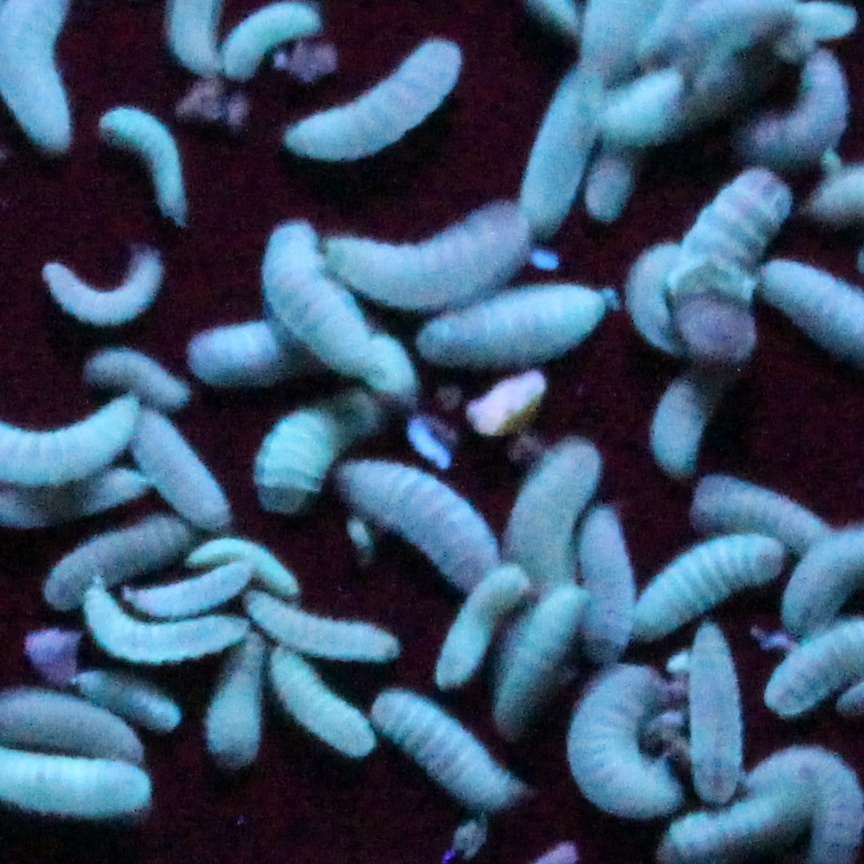larve: (265, 225, 414, 410), (322, 198, 533, 317), (281, 37, 465, 161), (363, 684, 522, 815), (324, 463, 494, 584), (557, 670, 682, 814), (261, 394, 390, 517), (432, 286, 612, 374), (628, 539, 777, 639), (502, 443, 600, 594), (492, 588, 590, 737), (122, 406, 233, 525), (737, 49, 851, 164), (522, 72, 600, 237), (82, 582, 247, 659), (47, 523, 188, 612), (604, 57, 735, 149), (682, 619, 745, 802), (265, 655, 384, 751), (245, 594, 402, 661), (441, 568, 528, 688), (694, 480, 828, 557), (100, 110, 188, 223), (41, 251, 165, 325), (190, 327, 339, 388), (649, 366, 726, 482), (220, 2, 324, 84), (579, 508, 633, 659), (188, 533, 306, 602), (82, 343, 196, 406), (208, 633, 261, 764), (75, 672, 190, 731), (126, 568, 255, 612), (588, 149, 632, 219)
